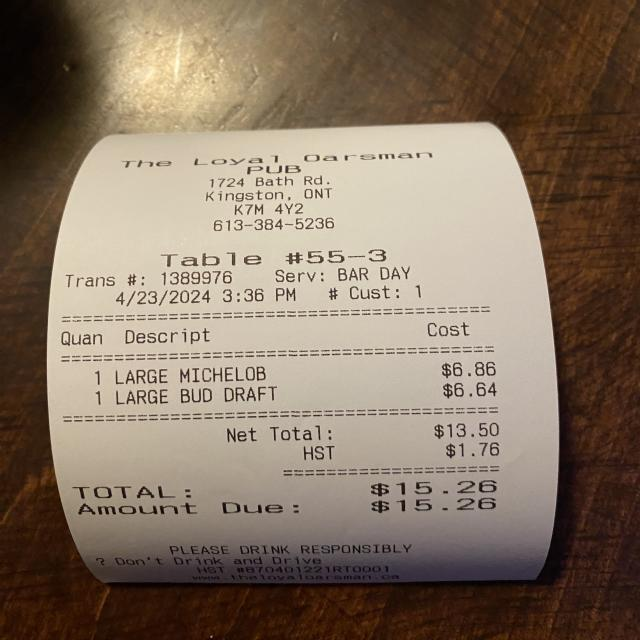item: (110, 379, 505, 411), (108, 358, 505, 386)
store_name: (112, 146, 449, 179)
total_amount: (65, 474, 509, 502)
transaction_date: (111, 285, 219, 312)
